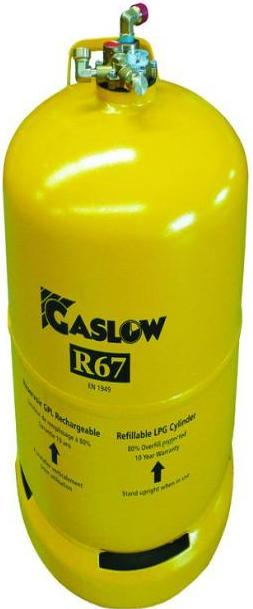cylinder: (1, 0, 253, 609)
